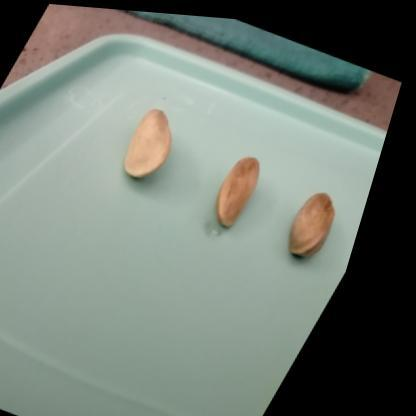pistachio: (113, 108, 180, 175), (214, 152, 263, 226), (283, 186, 308, 211)
